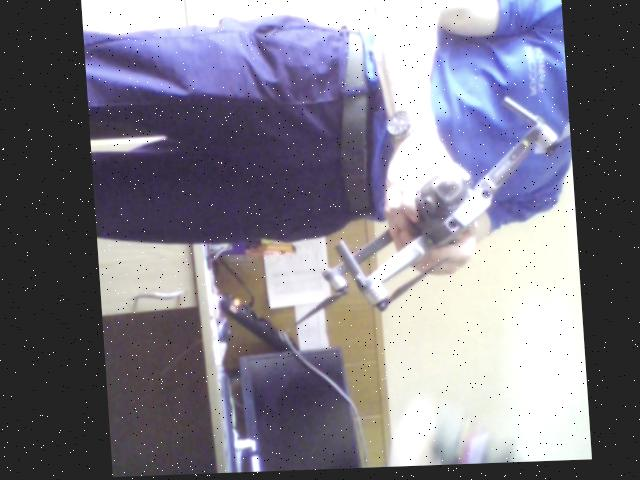drone: (280, 106, 578, 336)
